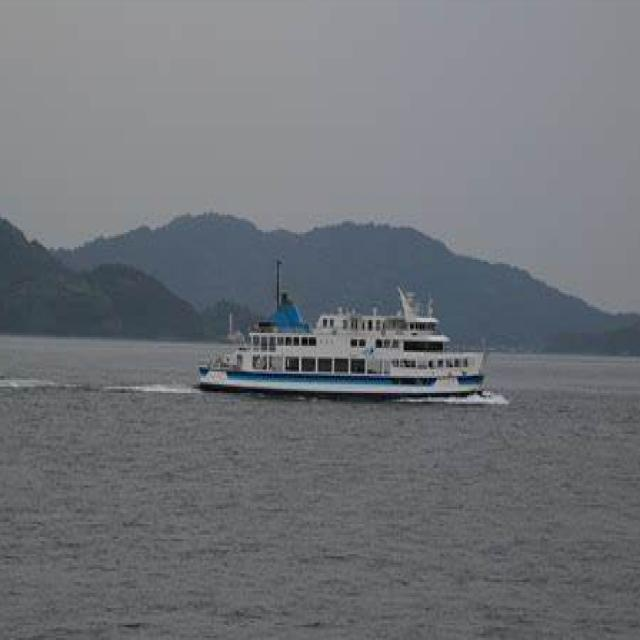houseboat: (193, 263, 521, 395)
